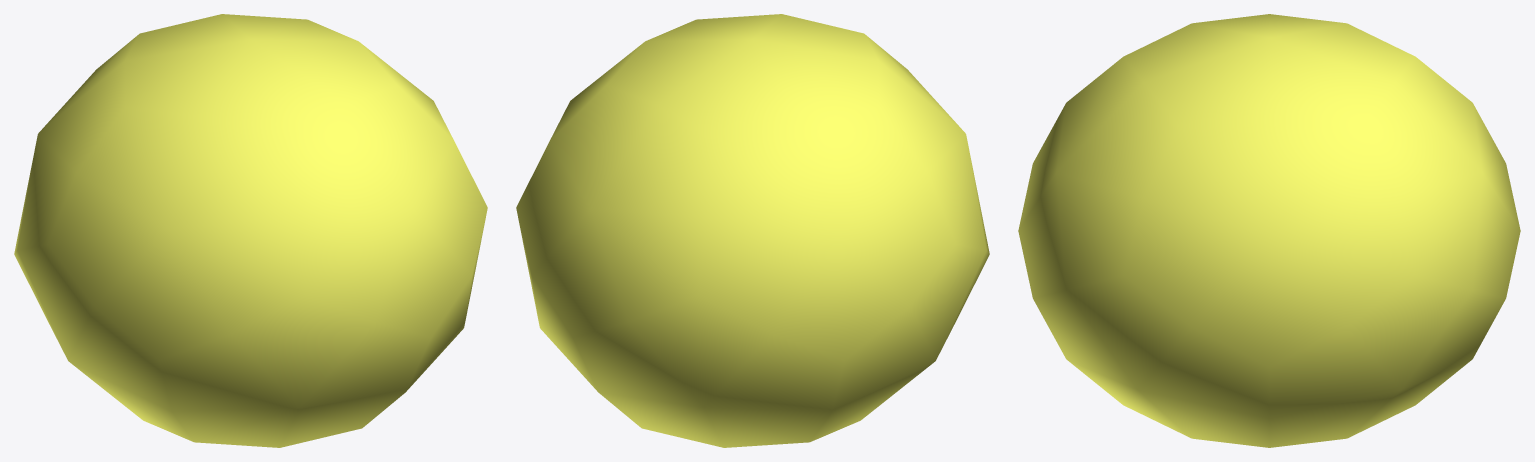
Rendered from ico.fbx.
3 renders of one model, left to right at view 1: azimuth 30°, elevation 25°; view 2: azimuth 150°, elevation 25°; view 3: azimuth 270°, elevation 25°, orthographic.
Parts seen in each view (by area): view 1: Icosphere.5504; view 2: Icosphere.5504; view 3: Icosphere.5504.
Part boxes in pixels (x1,y1,x2,y2): Icosphere.5504: (14,14,487,447); Icosphere.5504: (516,14,989,447); Icosphere.5504: (1018,14,1520,447).
Bounding box in the file's own units: 8.25 × 7.42 × 8.76.
